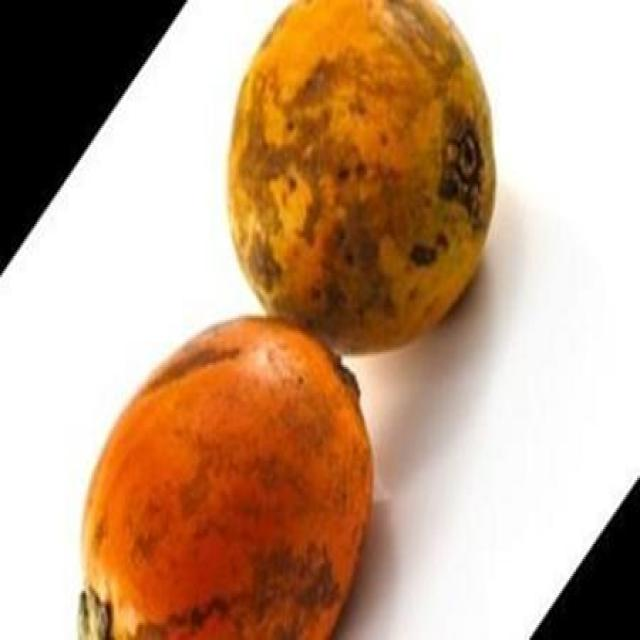good: (226, 0, 498, 361), (77, 318, 373, 638)
